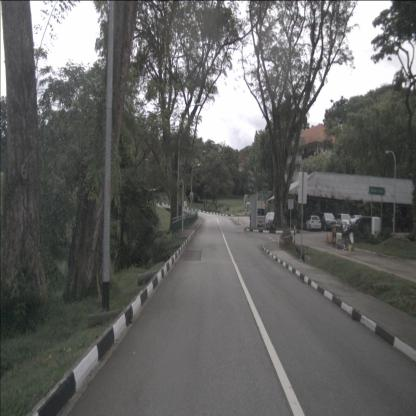movable_object-trafficcone: (326, 233, 329, 243), (329, 234, 332, 242)
vehicle-car: (341, 217, 382, 242), (318, 212, 338, 232), (336, 213, 354, 233), (304, 216, 322, 232), (265, 212, 278, 228)
vehicle-truck: (250, 201, 266, 232)
